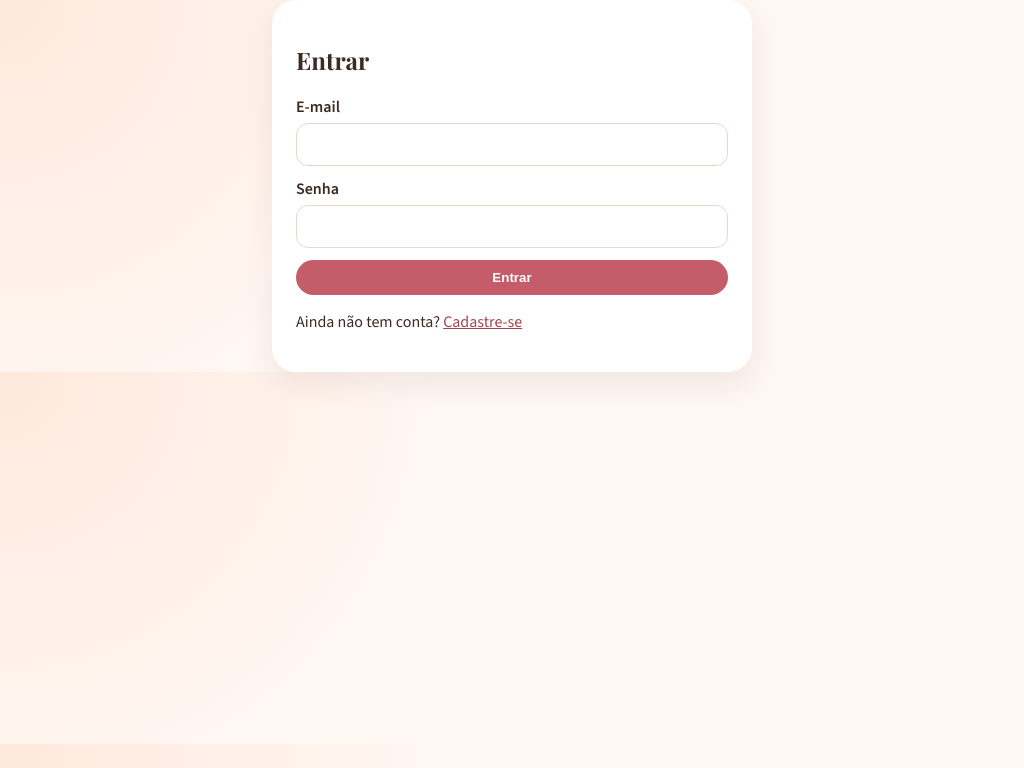
Login › autentica e mostra mensagem de sucesso
In the field labelled "E-mail": {"x": 512, "y": 144} [296, 123, 728, 166], type "ana@loja.com"
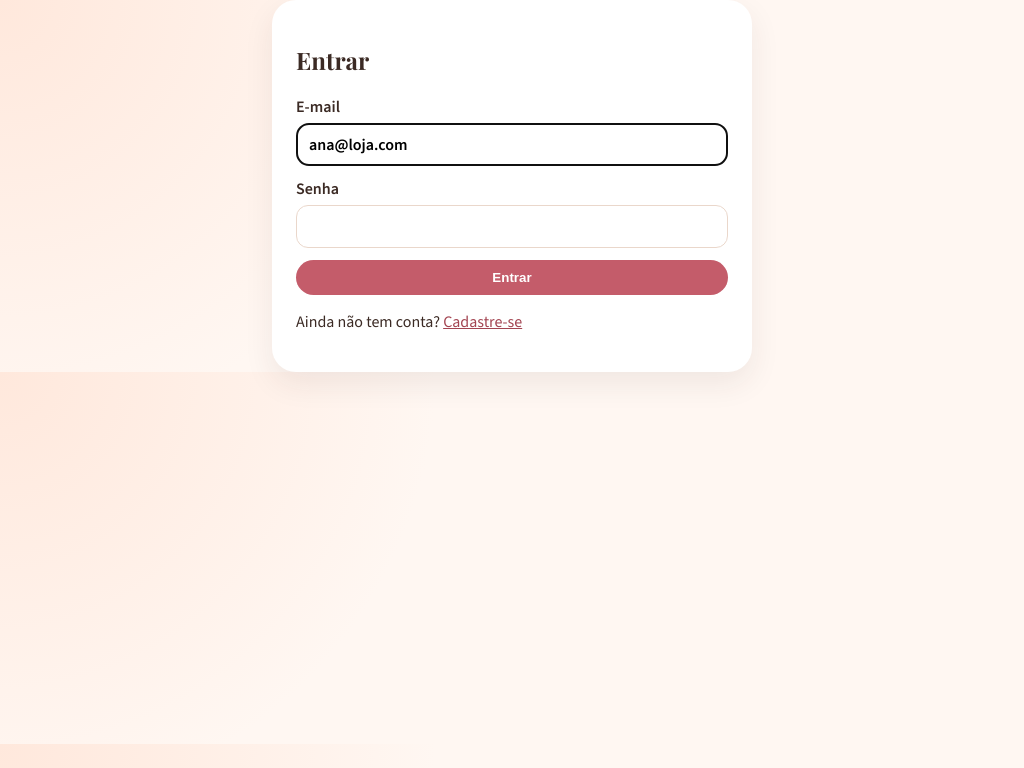
In the password field labelled "Senha": {"x": 512, "y": 226} [296, 205, 728, 248], type "senha123"
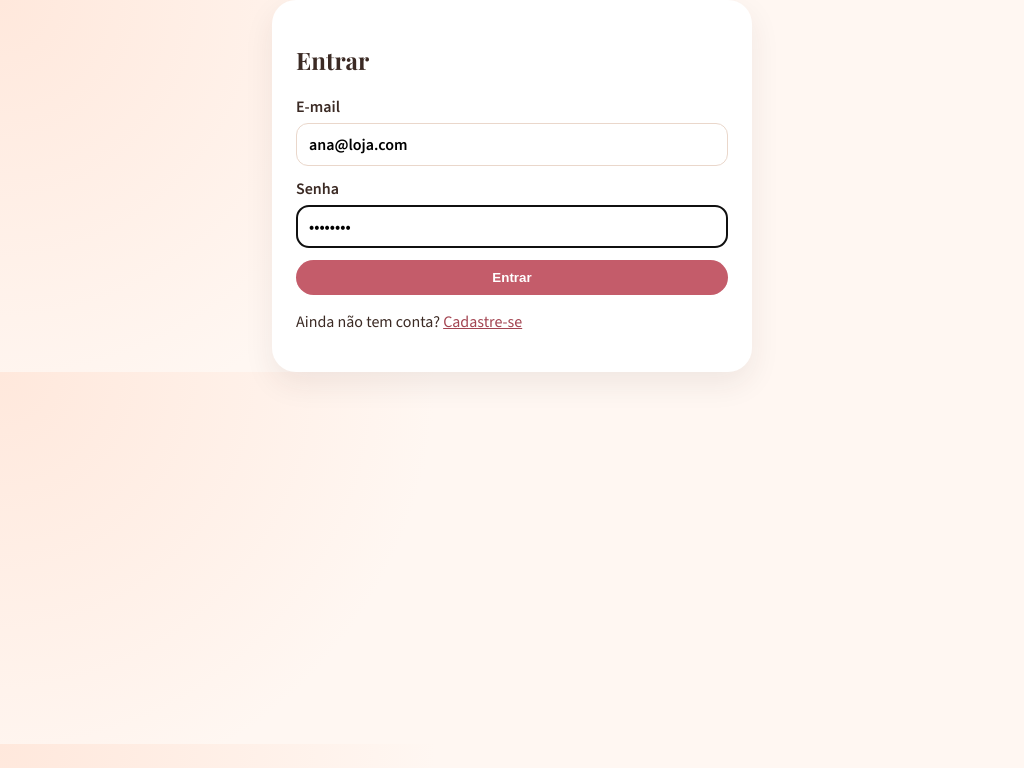
Click the button "Entrar": {"x": 512, "y": 277} [296, 260, 728, 295]
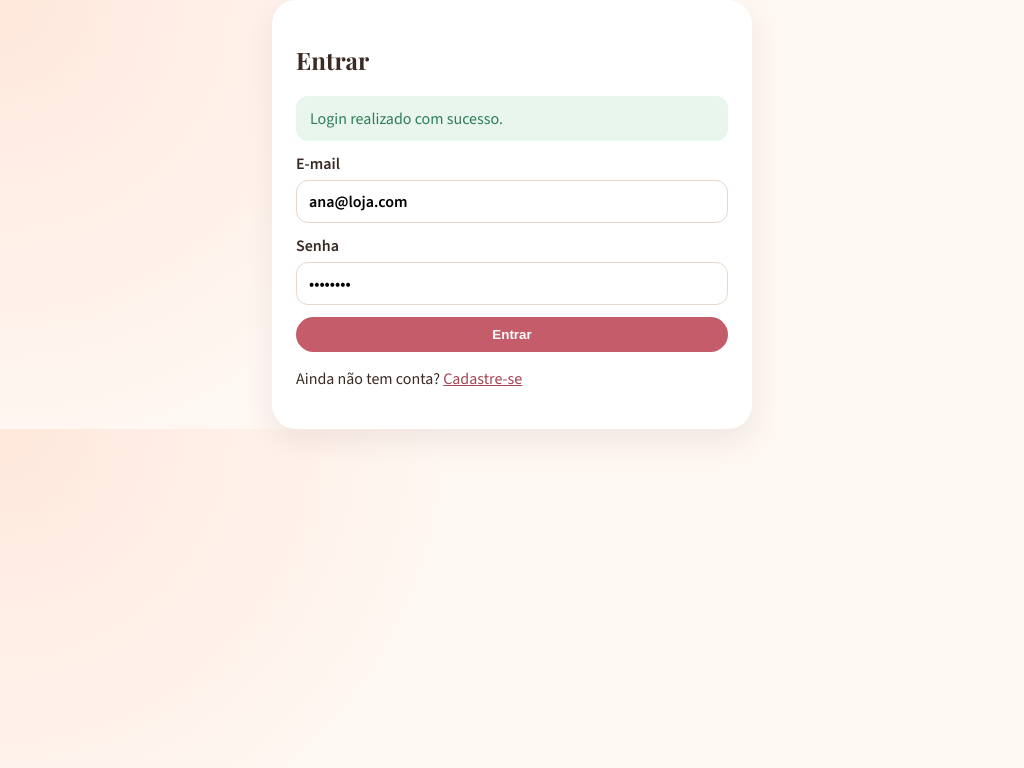
Expected: the message reads "Login realizado com sucesso.", [310, 108, 503, 129]
